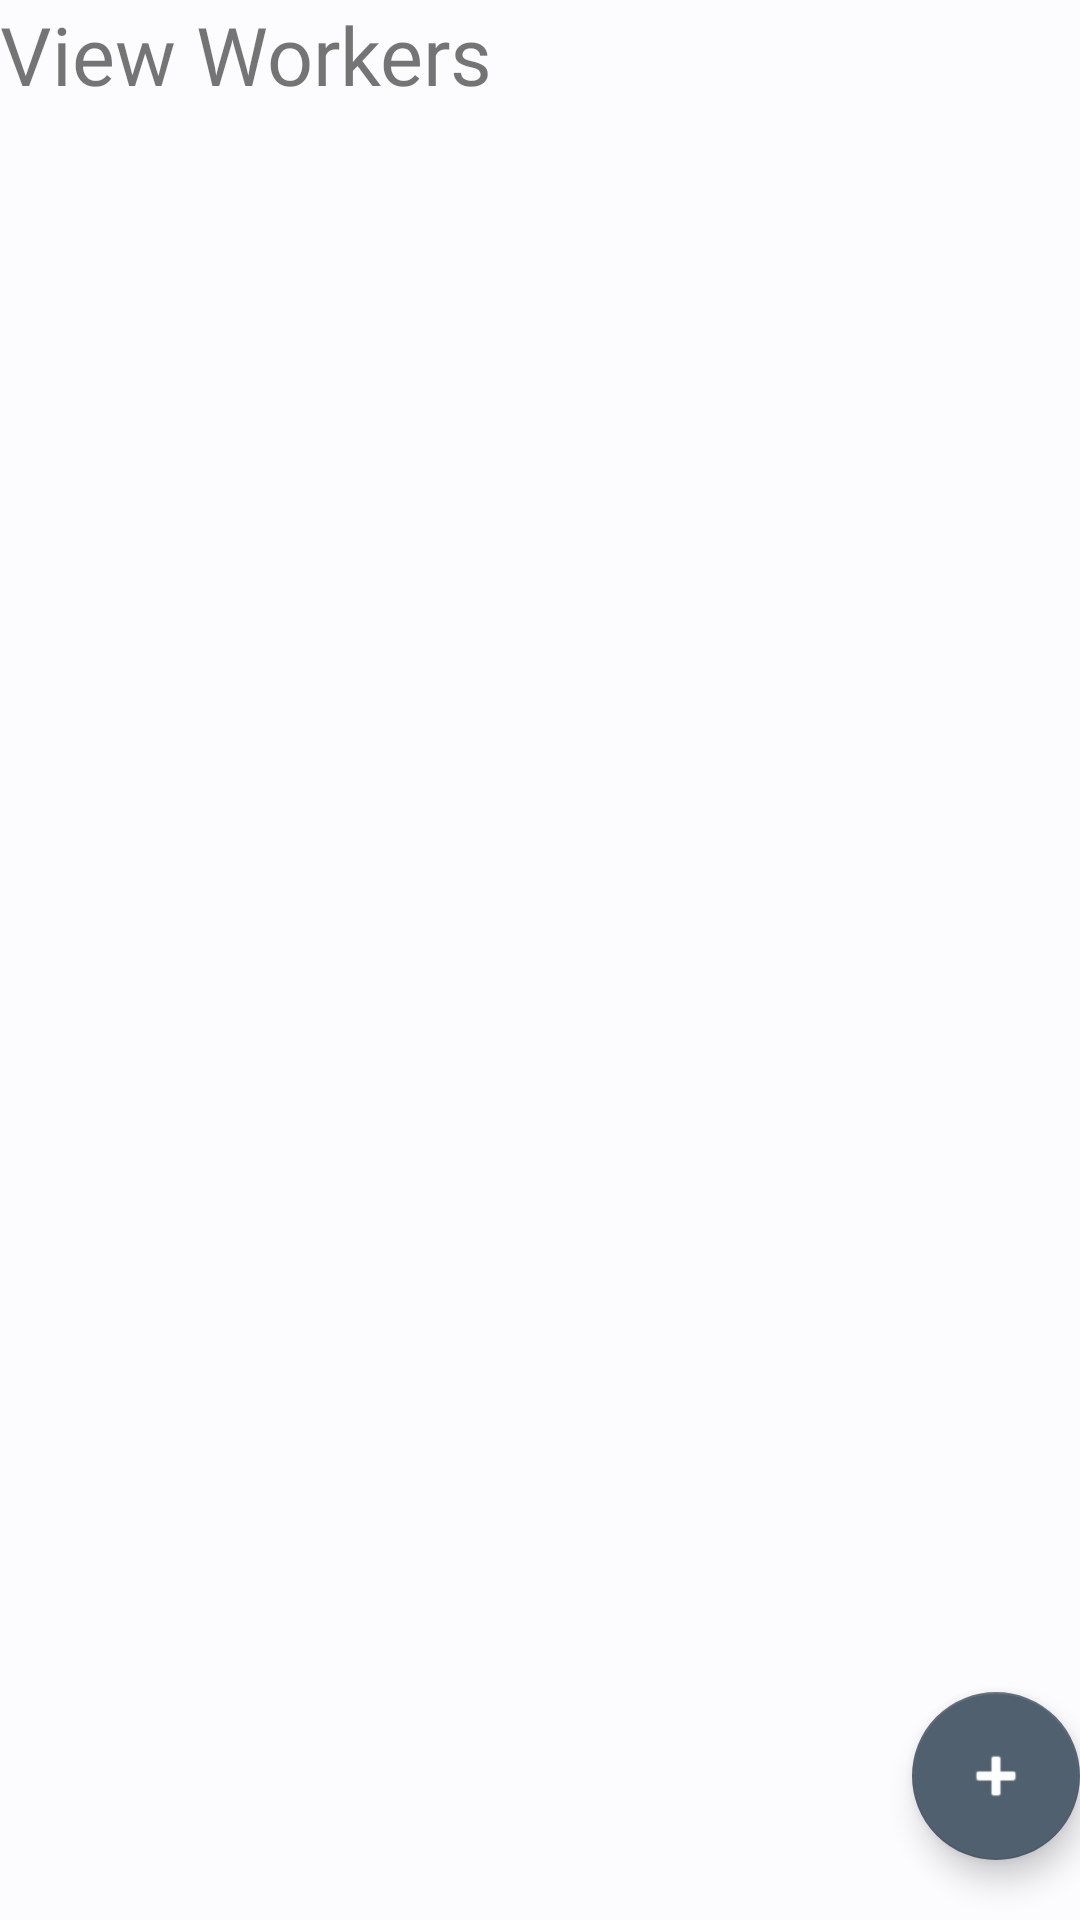

Icon click points for this 1080*1920 phone screenshot, format point (x, y):
add: point (996, 1776)
